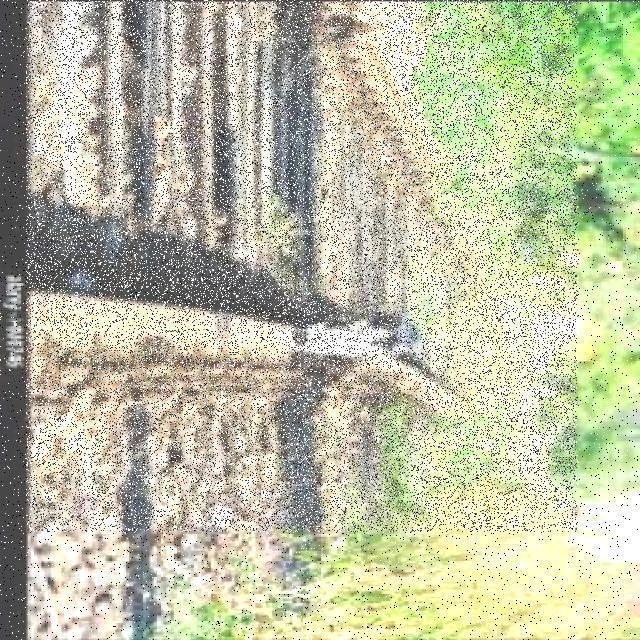rail: (27, 1, 578, 533)
